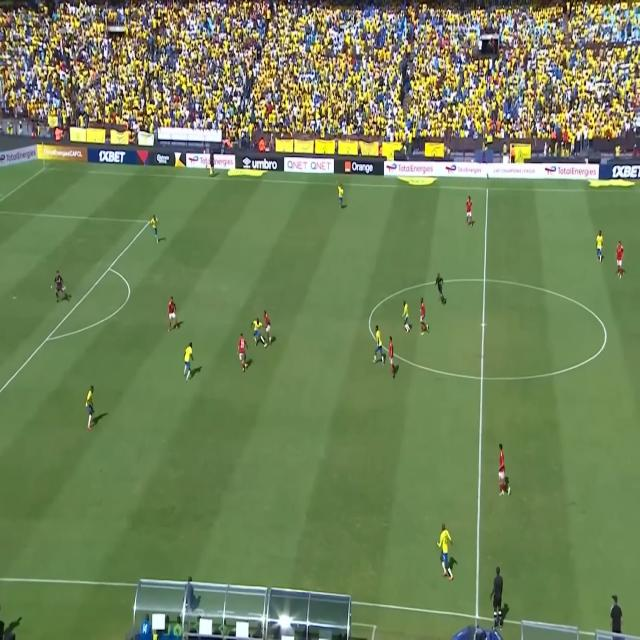Ball: (241, 356, 247, 364)
Keeper: (53, 264, 69, 313)
Player: (436, 520, 458, 582), (497, 431, 514, 505), (592, 221, 610, 267), (611, 236, 628, 277), (85, 377, 96, 437), (372, 322, 386, 368), (236, 331, 250, 376), (417, 295, 431, 337), (182, 341, 196, 382), (249, 316, 268, 346), (464, 193, 478, 233), (334, 177, 348, 214), (166, 294, 180, 331), (263, 308, 275, 350), (400, 297, 412, 337), (150, 210, 162, 246), (389, 335, 395, 379)
Ref: (489, 562, 509, 624), (432, 272, 448, 302), (209, 150, 217, 177)
